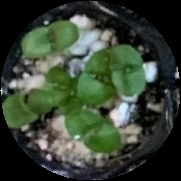Basil: (66, 109, 121, 155), (80, 44, 121, 105), (1, 86, 59, 128), (22, 22, 78, 58), (110, 46, 147, 95)
